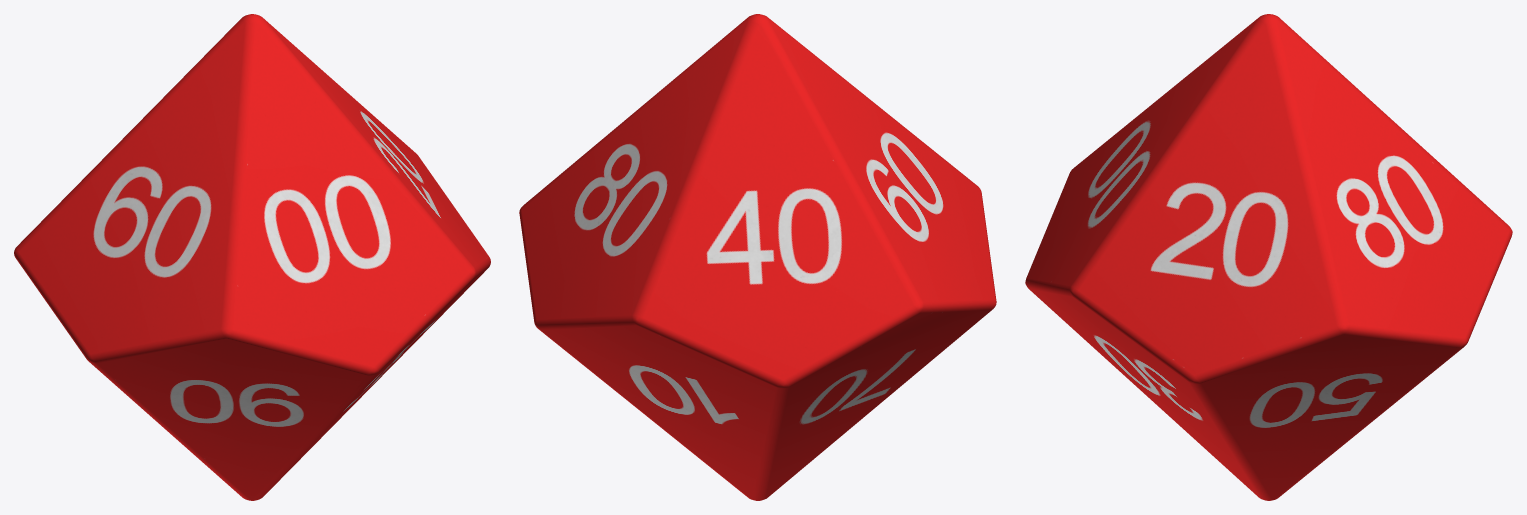
3 renders of one model, left to right at view 1: azimuth 30°, elevation 25°; view 2: azimuth 150°, elevation 25°; view 3: azimuth 270°, elevation 25°, orthographic.
Visible parts, largest first — view 1: d10xx_red_plastic; view 2: d10xx_red_plastic; view 3: d10xx_red_plastic.
Part boxes in pixels (bbox=[...]): d10xx_red_plastic: bbox=[14, 14, 490, 500]; d10xx_red_plastic: bbox=[519, 14, 996, 500]; d10xx_red_plastic: bbox=[1025, 14, 1512, 500].
Size of the model in its own units: 1.85 by 2.12 by 1.94.
1 material, 1 textured.
